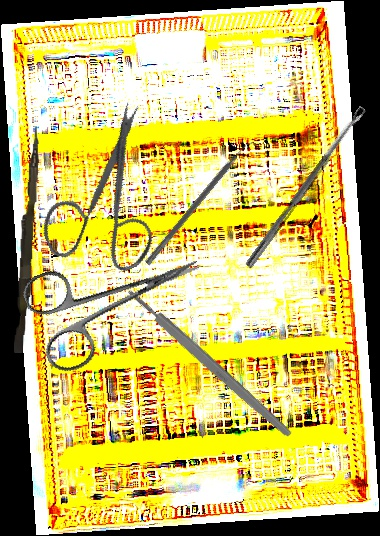Iris Scissors: (8, 97, 196, 296), (18, 220, 218, 378)
Pusher: (13, 125, 41, 354)
Scalpel Handle: (124, 285, 295, 441)
Spatula Surgical: (144, 137, 256, 270)
Surgical Spoon: (244, 105, 368, 270)
